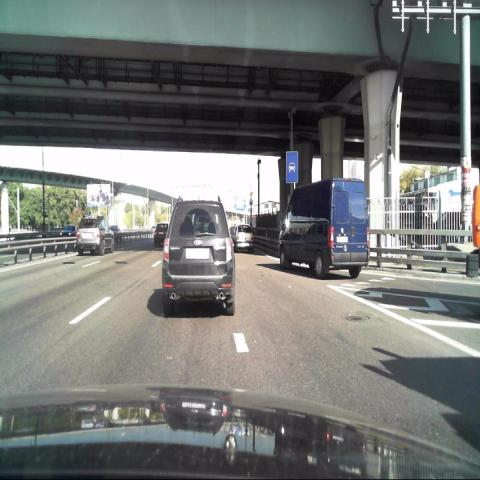5_3: (286, 151, 298, 184)
